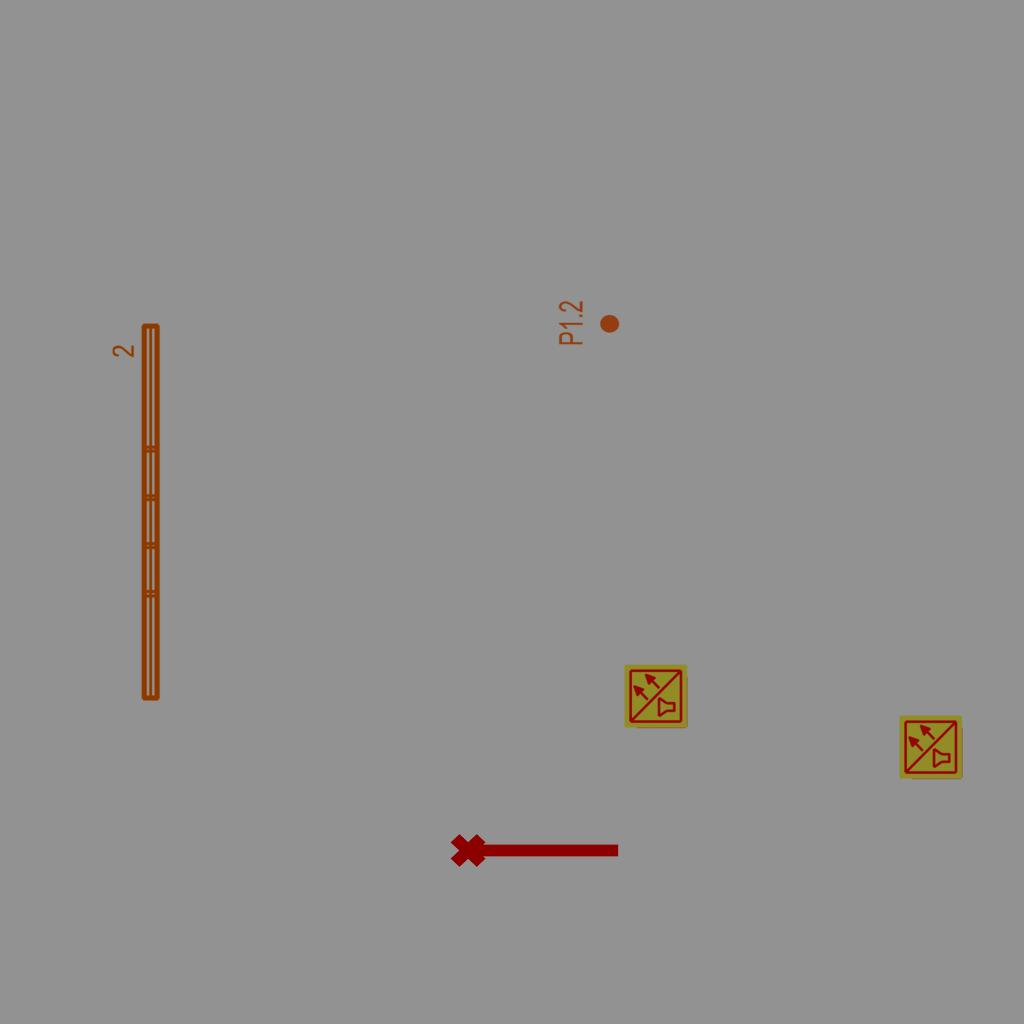ASR_Ansaugoeffnung: (448, 825, 624, 871)
Ambulanz_Pendelleuchte_LED: (110, 319, 166, 706)
Downlight_LED_Einbauleuchten_Flur: (557, 300, 621, 346)
OKW_Multisensormelder_(Kombination_optischer_Rauch-Kahlenmonoxid_Waerme-Melder): (898, 714, 964, 780), (623, 663, 689, 729)
